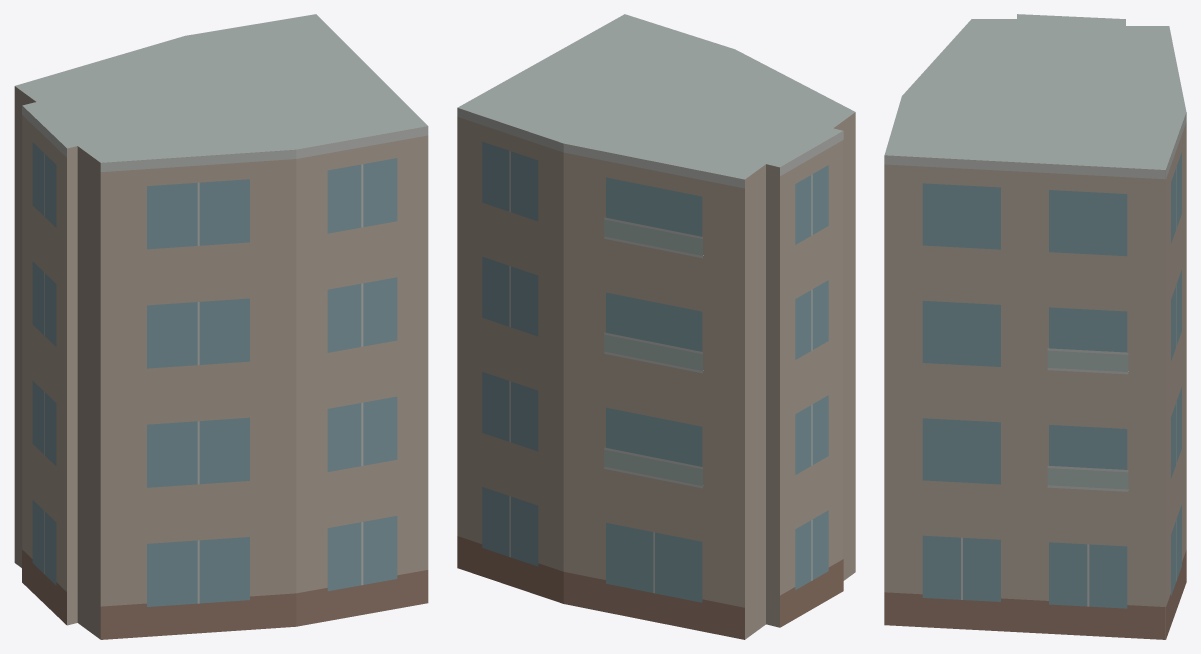
File: survey-upis-33007942.glb
3 renders of one model, left to right at view 1: azimuth 30°, elevation 25°; view 2: azimuth 150°, elevation 25°; view 3: azimuth 270°, elevation 25°, orthographic. The views are drawn at different scales.
Visible parts, largest first — view 1: survey-upis-33007942.tmp; view 2: survey-upis-33007942.tmp; view 3: survey-upis-33007942.tmp.
Boxes of the visible parts, bbox=[...] form: survey-upis-33007942.tmp: bbox=[14, 14, 428, 639]; survey-upis-33007942.tmp: bbox=[457, 14, 855, 639]; survey-upis-33007942.tmp: bbox=[884, 14, 1186, 639].
Bounding box in the file's own units: 8.91 × 12.5 × 7.3.
